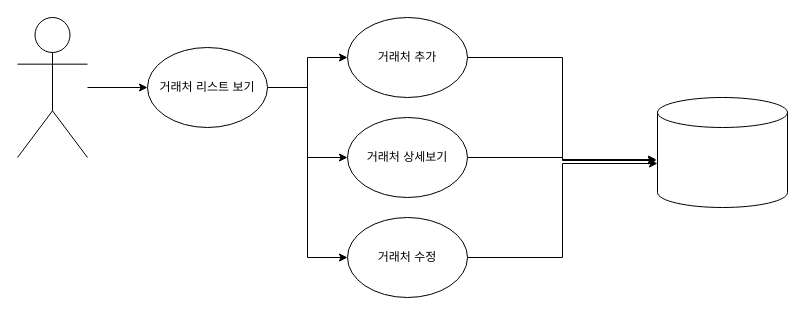
The diagram is 805 pixels wide and 315 high, and some of its shapes have lost their labels. The centre of each missing label's shape, as x and y in pixels:
거래처 정보 Table: [722,152]
관리자: [52,87]
